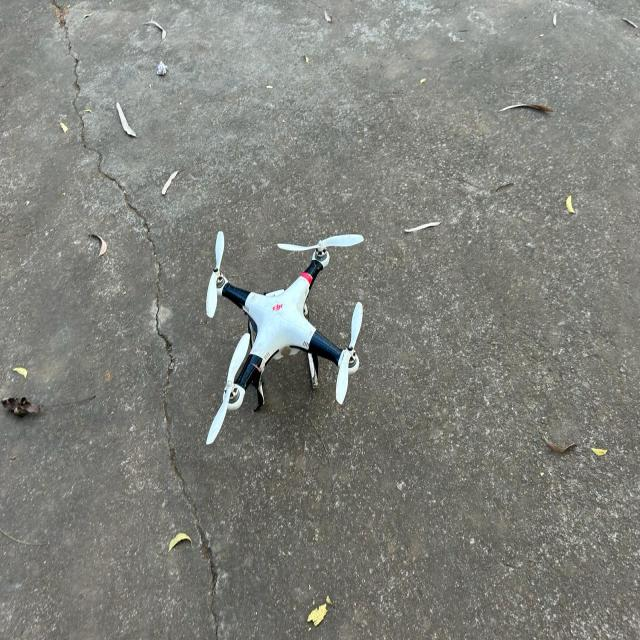drone: (169, 191, 421, 500)
